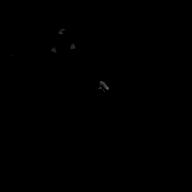v: (48, 24, 77, 52)
